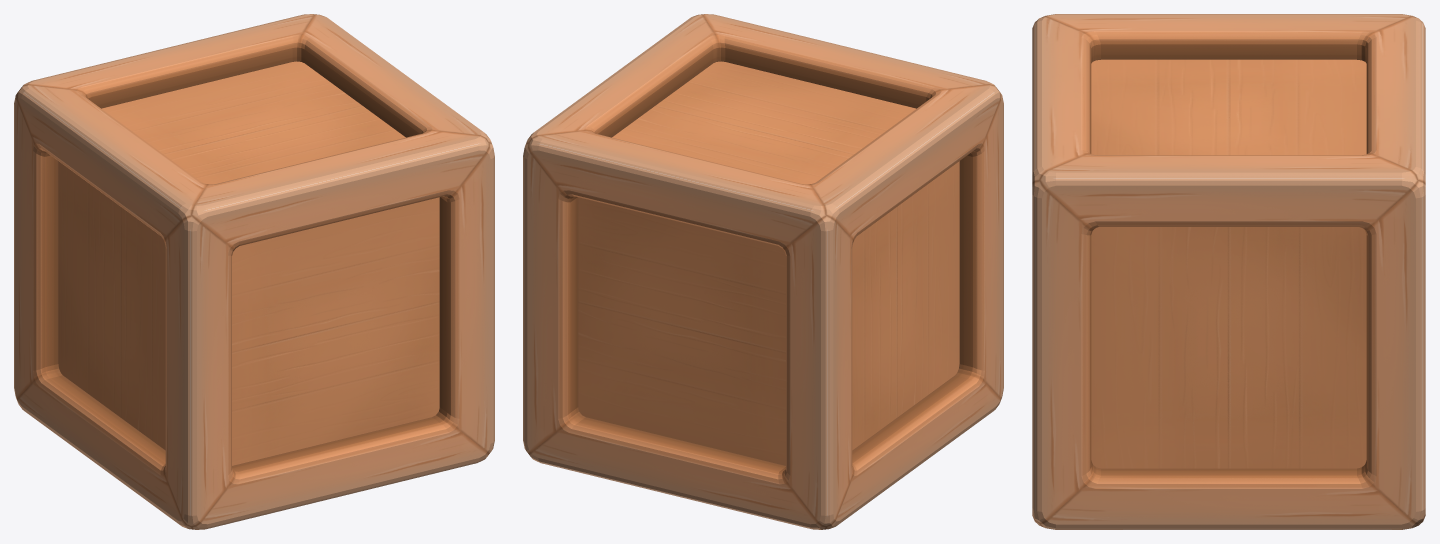
File: woodenbox_1.fbx
3 views of the same model, side by side, from view 1: azimuth 30°, elevation 25°; view 2: azimuth 150°, elevation 25°; view 3: azimuth 270°, elevation 25° (orthographic). The views are drawn at different scales.
Visible parts, largest first — view 1: woodenbox_1; view 2: woodenbox_1; view 3: woodenbox_1.
Part boxes in pixels (x1,y1,x2,y2): woodenbox_1: (14,14,494,529); woodenbox_1: (523,14,1003,529); woodenbox_1: (1032,14,1425,529).
Size of the model in its own units: 200 by 200 by 200.
